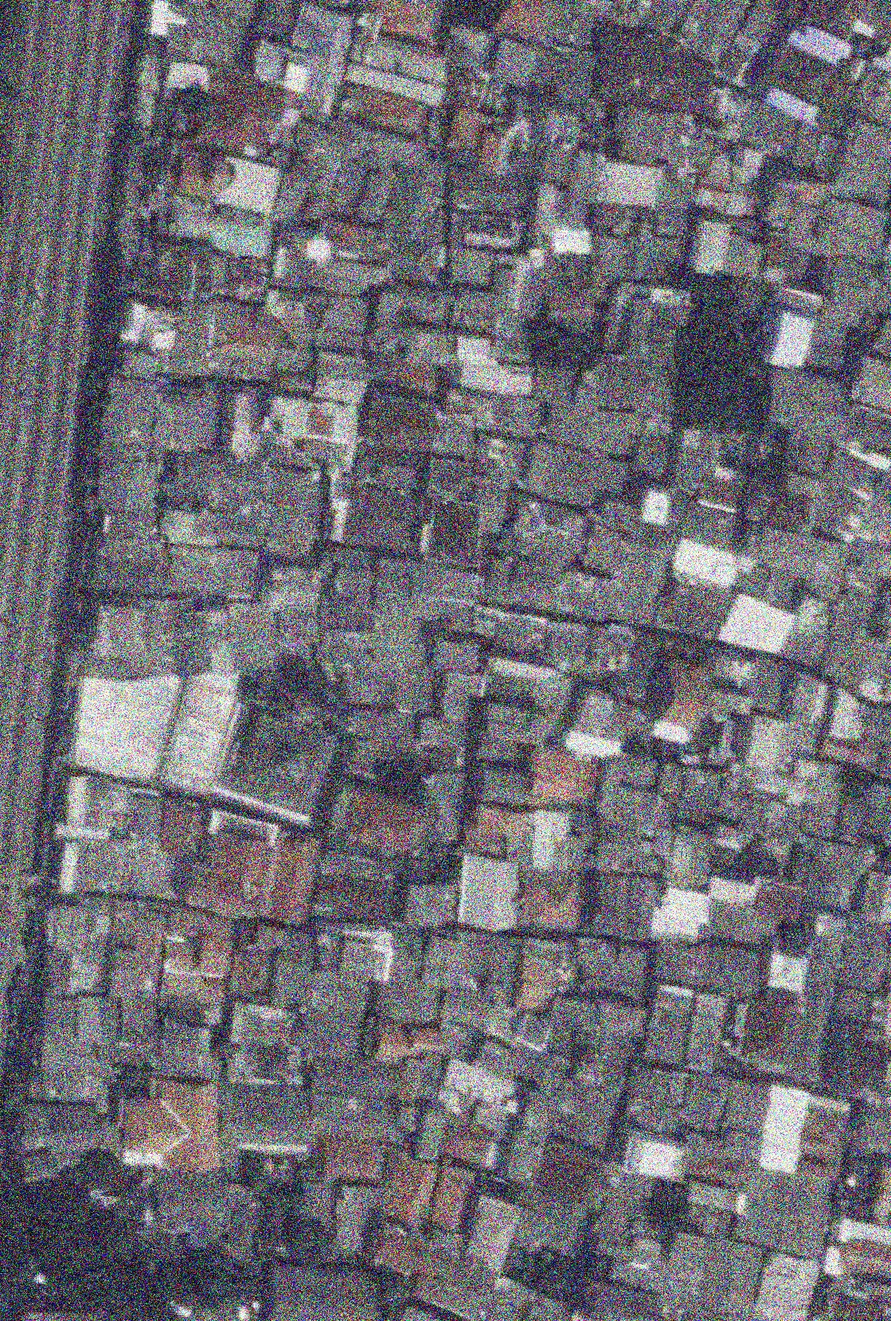building: (483, 486, 678, 630), (596, 0, 786, 90), (210, 700, 341, 829), (173, 820, 321, 926), (358, 1217, 502, 1321), (716, 1075, 851, 1184), (67, 663, 184, 785), (449, 250, 541, 398), (312, 607, 438, 714), (158, 662, 247, 798), (588, 26, 720, 117), (141, 234, 271, 318), (707, 84, 825, 174), (116, 1076, 224, 1174), (728, 1165, 836, 1261), (272, 0, 362, 114), (461, 799, 596, 875), (192, 65, 296, 163), (750, 985, 843, 1087), (144, 905, 236, 1004), (343, 29, 456, 109), (56, 834, 186, 901), (324, 781, 431, 862), (636, 651, 723, 750), (591, 525, 673, 629), (165, 600, 278, 675), (639, 981, 729, 1074), (553, 1054, 635, 1155), (784, 188, 890, 266), (57, 770, 167, 844), (37, 993, 122, 1085), (649, 934, 765, 1000), (21, 1100, 119, 1178), (164, 196, 276, 264), (760, 364, 855, 444), (217, 1081, 317, 1157), (572, 937, 648, 1037), (259, 394, 359, 469), (709, 800, 802, 879), (741, 520, 849, 587), (206, 302, 297, 380), (607, 103, 708, 172), (529, 181, 592, 289), (582, 1171, 655, 1264), (258, 830, 326, 929), (45, 899, 115, 995), (690, 1234, 767, 1321), (790, 832, 872, 913), (813, 619, 891, 704), (516, 436, 604, 511), (560, 685, 640, 767), (264, 1264, 381, 1320), (529, 1137, 615, 1213), (103, 901, 169, 1000), (494, 1087, 560, 1186), (328, 481, 420, 552), (341, 702, 419, 785), (380, 158, 447, 254), (807, 248, 886, 329), (166, 0, 258, 68), (715, 589, 798, 664), (509, 1186, 590, 1260), (540, 401, 645, 458), (261, 465, 324, 559), (433, 1056, 517, 1126), (667, 0, 752, 69), (582, 353, 674, 416), (456, 1191, 524, 1276), (584, 868, 661, 943), (360, 389, 444, 457), (338, 79, 431, 140), (653, 571, 733, 641), (372, 1147, 441, 1228), (808, 483, 891, 550), (96, 374, 159, 461), (690, 148, 765, 221), (454, 853, 522, 933), (619, 1061, 692, 1135), (151, 1171, 232, 1237), (829, 117, 891, 202), (686, 216, 766, 281), (281, 130, 353, 202), (735, 984, 799, 1065), (750, 1249, 821, 1321), (707, 767, 780, 837), (166, 545, 260, 599), (310, 870, 397, 928), (501, 492, 574, 561), (488, 0, 594, 47), (818, 435, 890, 504), (154, 299, 215, 377), (737, 478, 816, 538), (306, 1091, 397, 1143), (166, 143, 239, 207), (700, 893, 780, 951), (606, 1239, 682, 1300), (418, 925, 486, 993), (834, 915, 891, 995), (155, 1015, 223, 1082), (153, 383, 219, 451), (421, 498, 486, 567), (621, 292, 686, 361), (468, 603, 549, 658), (259, 287, 327, 352), (527, 746, 598, 808), (446, 165, 529, 218), (366, 1017, 447, 1071), (214, 154, 283, 217), (307, 1054, 399, 1101), (143, 236, 206, 304), (89, 550, 186, 594), (665, 425, 723, 498), (158, 449, 226, 511), (768, 43, 837, 104), (314, 241, 389, 297), (733, 556, 805, 614), (462, 802, 535, 859), (824, 1217, 891, 1279), (590, 156, 663, 212), (734, 710, 795, 777), (373, 320, 457, 368), (669, 536, 742, 591), (836, 770, 891, 843), (89, 598, 150, 663), (479, 699, 558, 749), (529, 104, 580, 181), (592, 235, 681, 279), (515, 870, 581, 929), (432, 1110, 498, 1169), (93, 456, 160, 514), (749, 162, 805, 231), (593, 779, 662, 835), (593, 822, 663, 877), (649, 883, 712, 944), (534, 43, 597, 103), (617, 1129, 687, 1183), (501, 553, 566, 611), (117, 298, 182, 356), (784, 17, 855, 70), (423, 1162, 475, 1234), (799, 760, 846, 839), (330, 1183, 381, 1255), (266, 226, 322, 291), (419, 768, 466, 845), (451, 286, 518, 340), (678, 1068, 732, 1134), (764, 308, 818, 373), (298, 1007, 363, 1061), (28, 1065, 109, 1108), (661, 827, 716, 890), (228, 1000, 295, 1051), (471, 391, 542, 439), (95, 509, 158, 563), (466, 1032, 529, 1086), (582, 1280, 667, 1320), (483, 652, 562, 695), (677, 500, 741, 553), (778, 613, 835, 672), (310, 351, 371, 406), (476, 932, 523, 1003), (368, 0, 441, 45), (457, 357, 535, 399), (385, 1053, 441, 1111), (371, 979, 440, 1026), (260, 563, 322, 615), (661, 1230, 706, 1301), (577, 521, 632, 579), (308, 968, 373, 1017), (510, 953, 561, 1015), (204, 215, 274, 260), (155, 799, 207, 859), (376, 285, 451, 326), (582, 622, 635, 680), (319, 1137, 384, 1184), (674, 765, 724, 826), (684, 216, 733, 278), (402, 559, 450, 621), (780, 671, 832, 728), (749, 876, 808, 926), (628, 424, 678, 483), (528, 808, 574, 872), (804, 315, 852, 376), (487, 35, 540, 90), (470, 432, 526, 484), (476, 1273, 536, 1321), (226, 943, 275, 1001), (266, 949, 314, 1008), (847, 352, 891, 416), (830, 575, 881, 630), (386, 239, 446, 285), (315, 210, 379, 253), (683, 1148, 747, 1191), (218, 459, 268, 514), (541, 619, 591, 674), (592, 491, 647, 541), (842, 539, 891, 595), (351, 166, 396, 226), (779, 429, 833, 479), (441, 23, 495, 73), (389, 661, 438, 716), (437, 985, 495, 1031), (693, 462, 745, 513), (761, 84, 822, 127), (454, 212, 521, 251), (745, 656, 790, 714), (763, 487, 815, 537), (473, 119, 517, 177), (402, 881, 456, 928), (224, 391, 260, 461), (371, 557, 412, 618), (546, 991, 603, 1034), (506, 1008, 557, 1056), (326, 559, 378, 606), (271, 163, 311, 224), (430, 413, 479, 462), (493, 0, 556, 38), (852, 63, 890, 126), (439, 671, 486, 721), (445, 105, 493, 153), (159, 508, 218, 547), (503, 253, 541, 313), (427, 635, 482, 676), (424, 456, 473, 502), (804, 0, 864, 37), (628, 0, 691, 35), (275, 607, 321, 654), (476, 764, 529, 804), (706, 684, 755, 727), (817, 734, 877, 769), (685, 1180, 748, 1213), (853, 1100, 890, 1155), (654, 168, 697, 215), (807, 910, 848, 959), (474, 476, 508, 535), (411, 1107, 447, 1162), (446, 246, 494, 287), (320, 294, 369, 334), (214, 513, 266, 550), (504, 252, 536, 312), (710, 652, 759, 691), (320, 596, 373, 632), (854, 870, 890, 923), (765, 951, 808, 995), (759, 228, 792, 284), (542, 288, 596, 322), (802, 953, 839, 1002), (827, 688, 861, 740), (440, 567, 484, 607), (251, 38, 287, 85), (415, 716, 466, 749), (301, 1180, 333, 1232), (474, 734, 522, 767), (783, 469, 828, 503), (118, 346, 160, 381), (165, 60, 210, 90), (298, 189, 333, 226), (861, 702, 890, 743), (455, 335, 494, 365), (652, 209, 687, 237), (872, 1163, 890, 1217), (793, 179, 830, 205), (304, 235, 331, 263), (873, 316, 890, 357), (135, 648, 159, 672), (533, 749, 561, 762), (298, 125, 317, 135)
tree: (670, 299, 777, 433), (28, 1225, 123, 1321), (180, 1245, 264, 1321), (69, 332, 123, 449), (17, 1166, 96, 1245), (109, 1246, 192, 1321), (89, 239, 136, 337), (0, 1242, 63, 1312), (80, 1208, 147, 1273), (521, 315, 596, 372), (283, 665, 351, 724), (274, 1213, 338, 1271), (72, 1146, 130, 1205), (49, 598, 103, 660), (636, 1175, 698, 1228), (160, 81, 213, 140), (373, 753, 430, 805), (0, 1059, 35, 1135), (366, 1267, 412, 1315), (256, 1184, 303, 1230), (643, 660, 679, 716), (835, 331, 871, 385), (680, 269, 735, 301), (234, 1153, 273, 1195), (112, 1178, 150, 1220), (237, 666, 273, 704), (114, 1060, 150, 1098), (737, 840, 774, 876), (440, 1, 491, 27), (776, 920, 809, 958), (837, 763, 872, 798), (649, 734, 680, 768), (619, 731, 651, 763), (395, 859, 425, 890), (589, 305, 608, 344), (170, 860, 192, 891), (143, 150, 164, 179), (431, 864, 455, 885)
